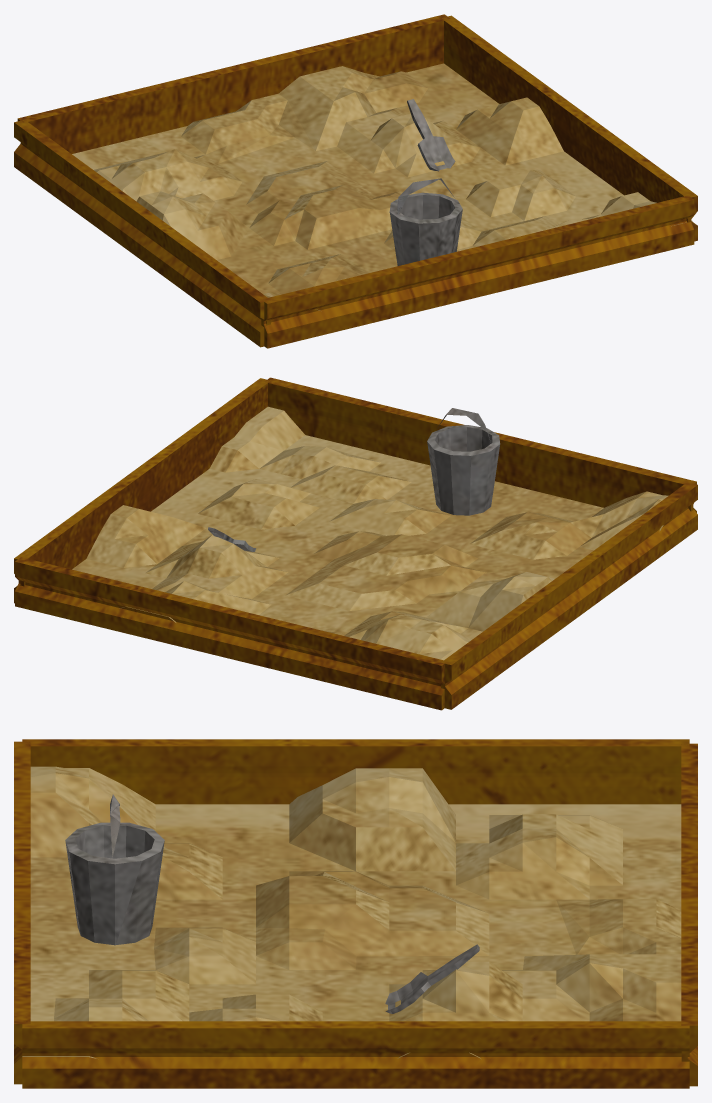
Rendered from Sandkasten.fbx.
3 renders of one model, top to bottom at view 1: azimuth 30°, elevation 25°; view 2: azimuth 150°, elevation 25°; view 3: azimuth 270°, elevation 25°, orthographic. The views are drawn at different scales.
Visible parts, largest first — view 1: Schaufel; view 2: Schaufel; view 3: Schaufel.
Part boxes in pixels (x1,y1,x2,y2): Schaufel: (14, 14, 697, 348); Schaufel: (14, 377, 697, 710); Schaufel: (14, 739, 697, 1088).
Bounding box in the file's own units: 205 × 43.16 × 205.
